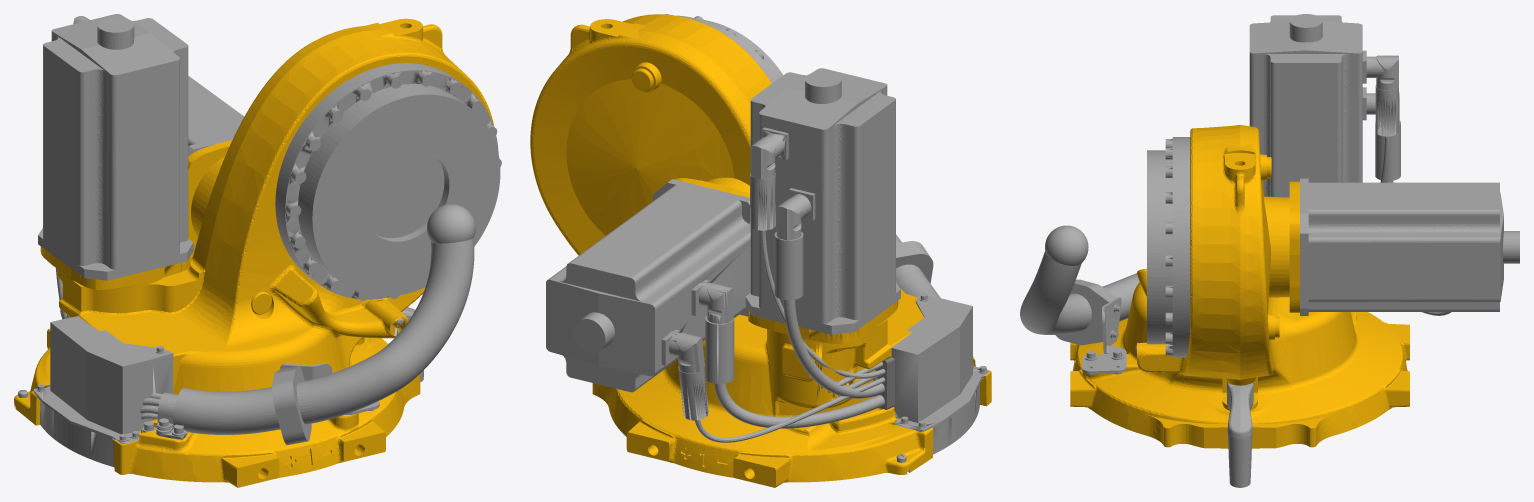
The picture shows the model from 3 angles, left to right: view 1: azimuth 30°, elevation 25°; view 2: azimuth 150°, elevation 25°; view 3: azimuth 270°, elevation 25°; orthographic projection. The views are drawn at different scales.
Parts seen in each view (by area): view 1: A1.001; view 2: A1.001; view 3: A1.001.
Part boxes in pixels (x1,y1,x2,y2): A1.001: (14,14,501,487); A1.001: (530,14,991,487); A1.001: (1020,14,1519,487).
Bounding box in the file's own units: 56.23 × 43.37 × 48.4.
